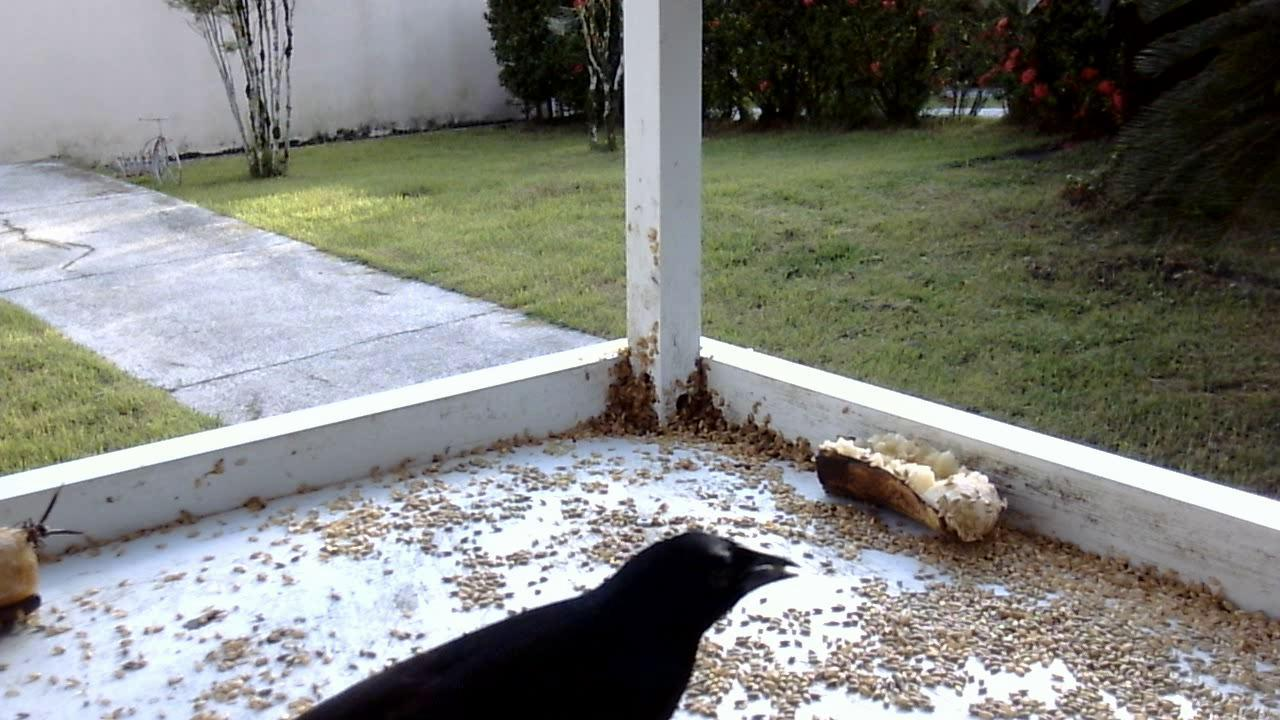chupim: (285, 524, 810, 710)
